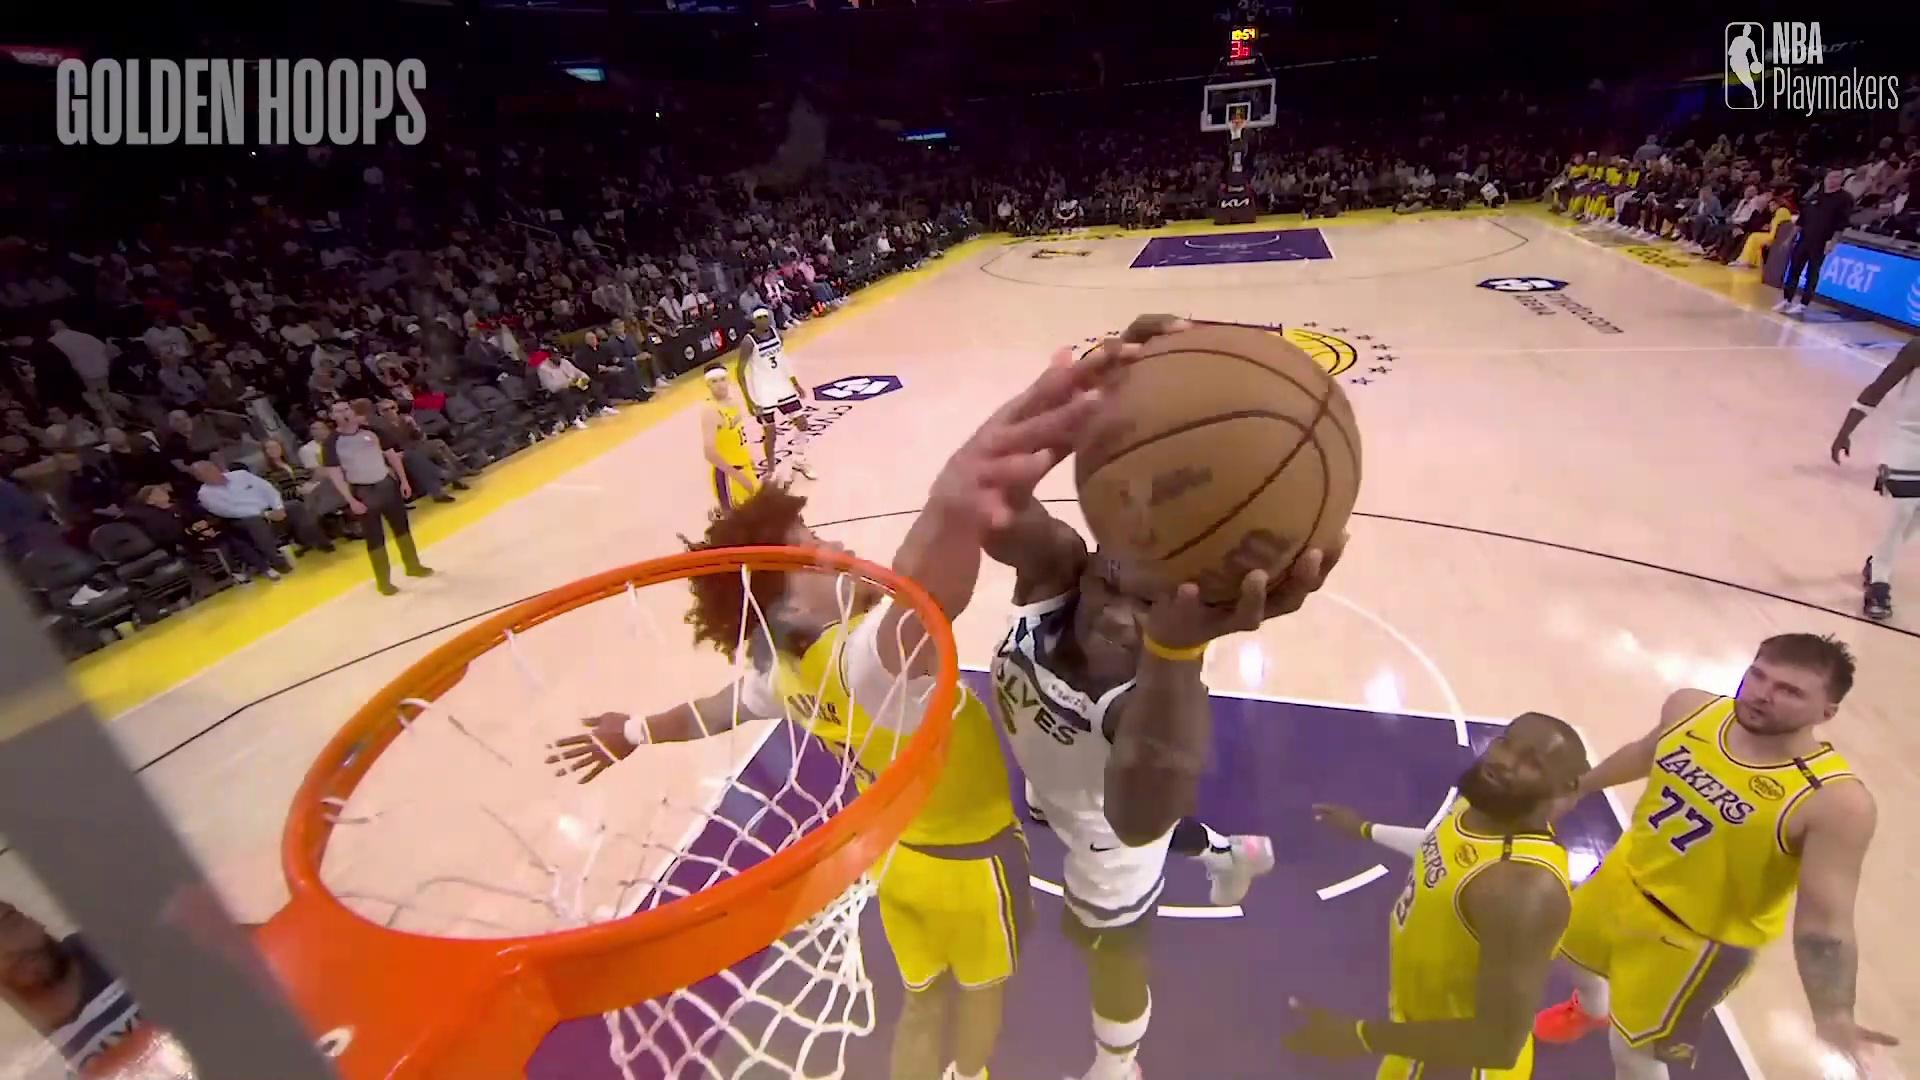ball: (1076, 309, 1373, 587)
hoop: (210, 525, 1063, 1035), (1225, 112, 1253, 144)
